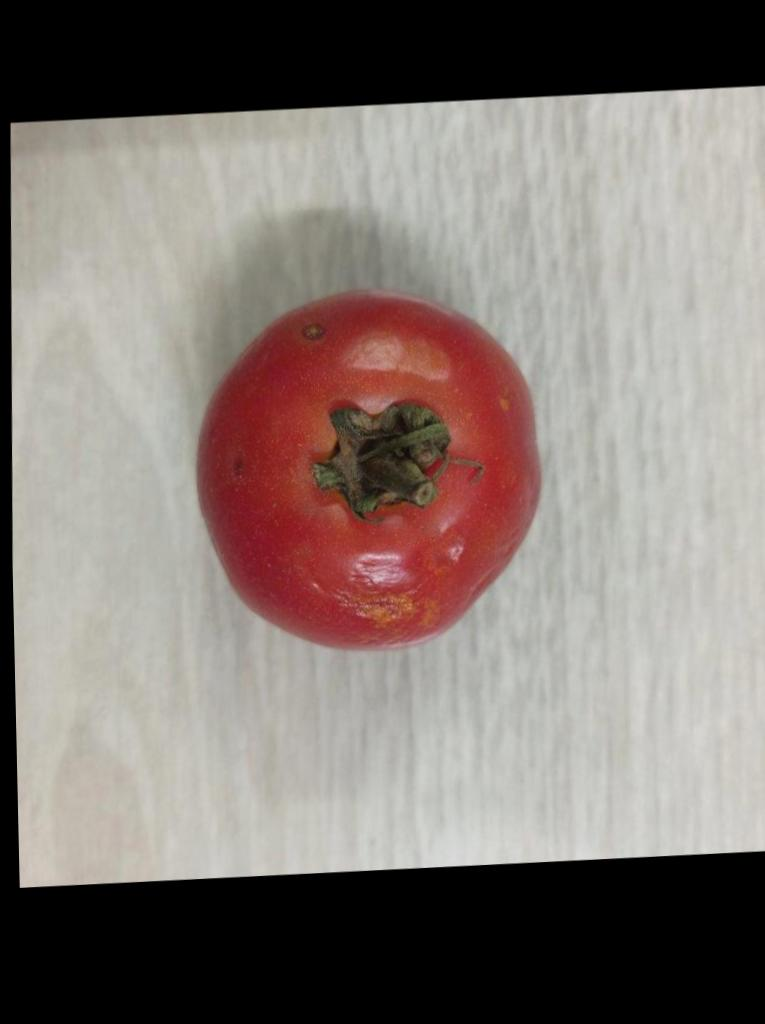bruise_discoloration: (350, 587, 416, 626), (419, 597, 444, 632)
surface_damage: (302, 324, 324, 339)
tomato: (198, 292, 539, 649)
